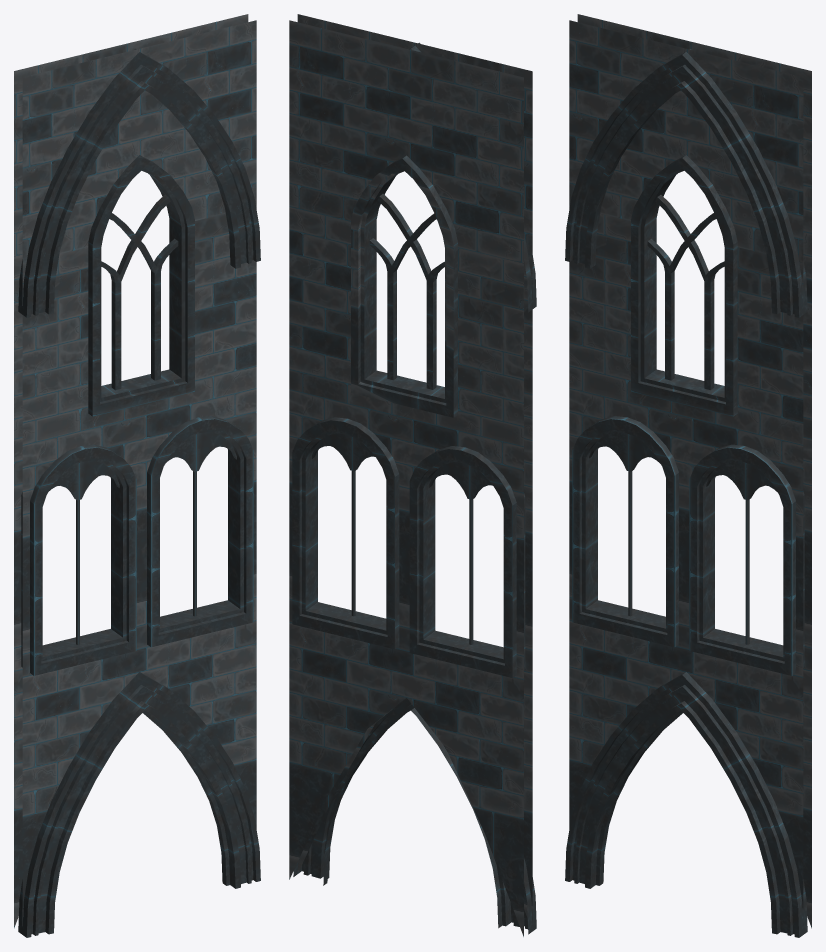
The model's file is Cathedral_Base_wall_1.fbx.
The picture shows the model from 3 angles, left to right: view 1: azimuth 30°, elevation 25°; view 2: azimuth 150°, elevation 25°; view 3: azimuth 330°, elevation 25°; orthographic projection.
Parts seen in each view (by area): view 1: Base_wall_1; view 2: Base_wall_1; view 3: Base_wall_1.
Boxes of the visible parts, x1,y1,x2,y2 form: Base_wall_1: (14, 14, 260, 937); Base_wall_1: (289, 14, 536, 936); Base_wall_1: (565, 14, 811, 937).
Bounding box in the file's own units: 800 × 2803 × 106.
Materials: 1 (1 with a texture image).
